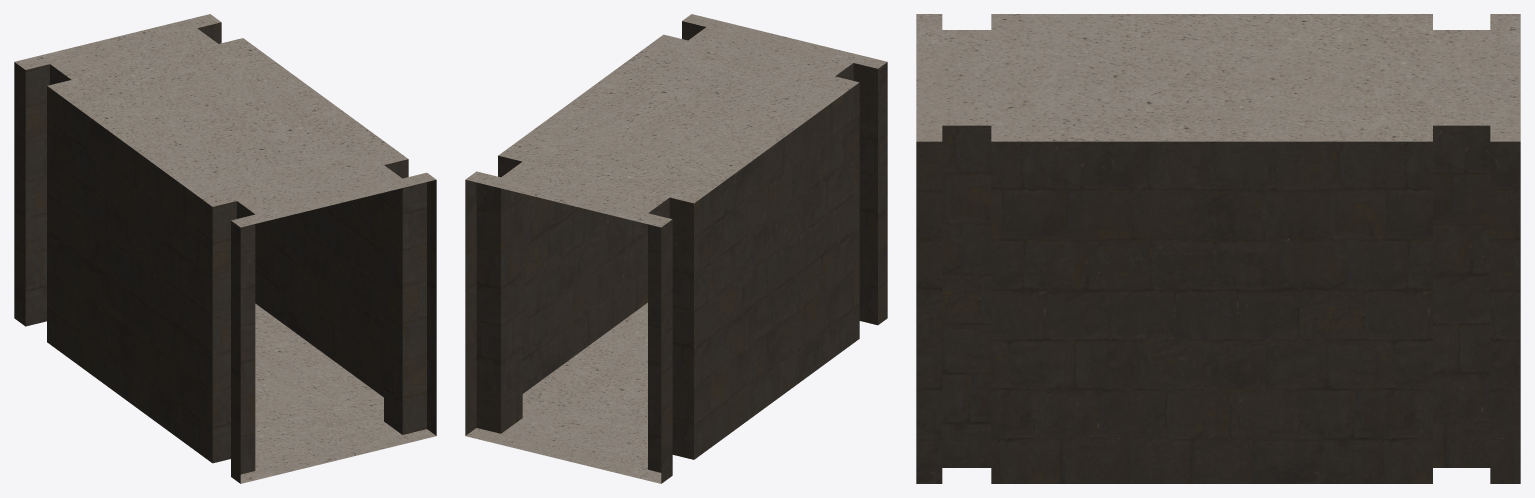
Rendered from dungeon1.fbx.
The picture shows the model from 3 angles, left to right: view 1: azimuth 30°, elevation 25°; view 2: azimuth 150°, elevation 25°; view 3: azimuth 270°, elevation 25°; orthographic projection. The views are drawn at different scales.
Parts seen in each view (by area): view 1: dungeon1; view 2: dungeon1; view 3: dungeon1.
Part boxes in pixels (x1=…): dungeon1: x1=14, y1=14, x2=436, y2=483; dungeon1: x1=465, y1=14, x2=887, y2=483; dungeon1: x1=916, y1=14, x2=1520, y2=483.
Size of the model in its own units: 600 by 750 by 1200.
